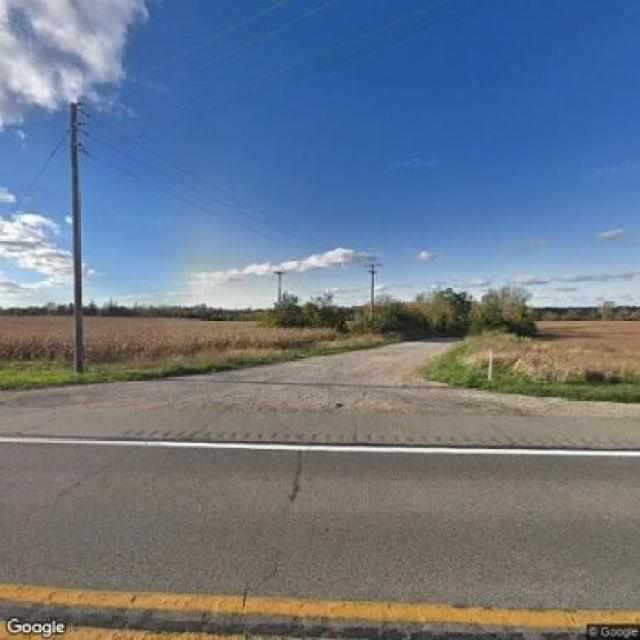pole: (54, 91, 114, 371)
